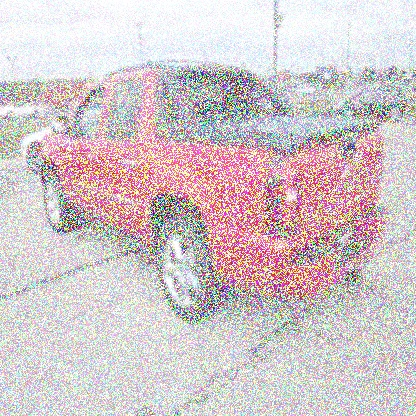Vehicle: (39, 61, 395, 327)
